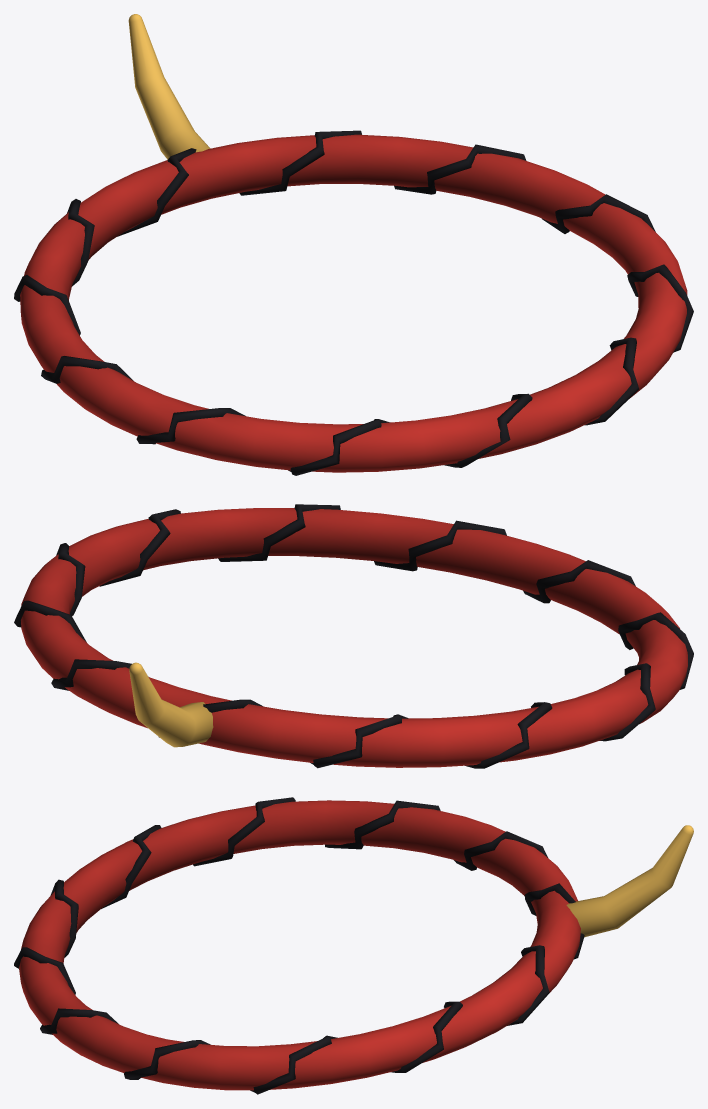
File: hw_mongkol.glb
The picture shows the model from 3 angles, top to bottom: view 1: azimuth 30°, elevation 25°; view 2: azimuth 150°, elevation 25°; view 3: azimuth 270°, elevation 25°; orthographic projection. The views are drawn at different scales.
Visible parts, largest first — view 1: hw_mongkol, hw_mongkol_cord, hw_mongkol_tail; view 2: hw_mongkol, hw_mongkol_cord, hw_mongkol_tail; view 3: hw_mongkol, hw_mongkol_cord, hw_mongkol_tail.
Boxes of the visible parts, x1,y1,x2,y2 form: hw_mongkol: [20, 134, 687, 472]; hw_mongkol_cord: [14, 130, 693, 475]; hw_mongkol_tail: [128, 14, 210, 159]; hw_mongkol: [21, 508, 687, 767]; hw_mongkol_cord: [14, 504, 693, 768]; hw_mongkol_tail: [129, 662, 213, 747]; hw_mongkol: [19, 800, 580, 1090]; hw_mongkol_cord: [14, 797, 584, 1094]; hw_mongkol_tail: [566, 825, 693, 937].
Bounding box in the file's own units: 0.987 × 0.2862 × 1.07.
